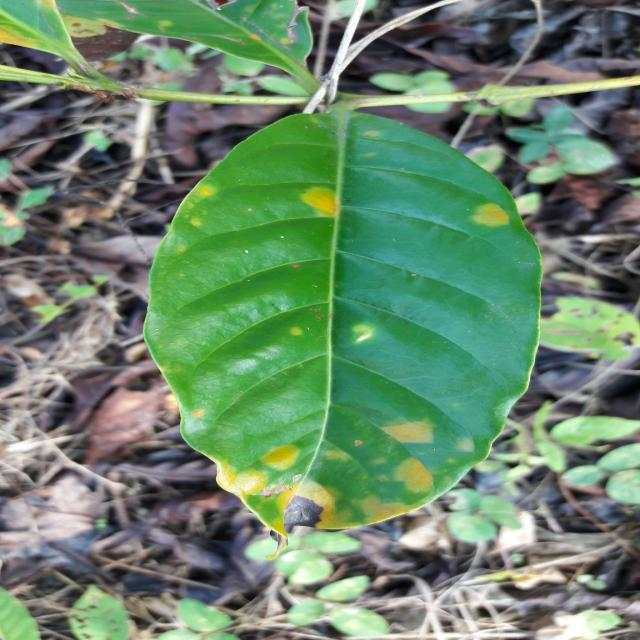Enfermedad-Roya: (143, 113, 543, 542)
